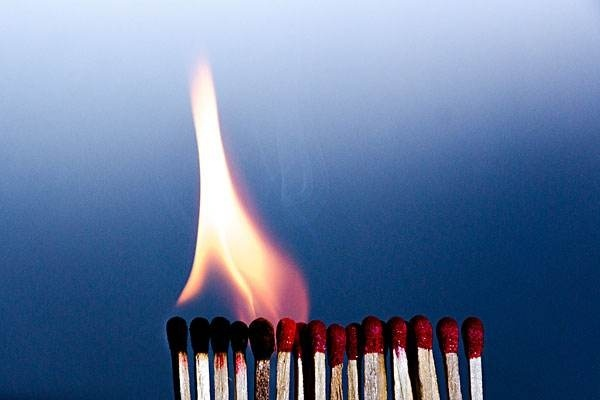fire: (180, 52, 297, 321)
